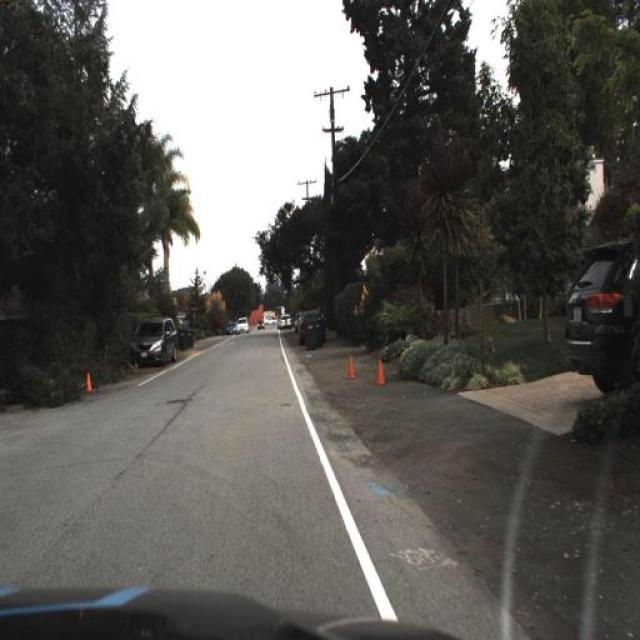car: (562, 231, 640, 401), (128, 312, 182, 372), (296, 302, 328, 349)
